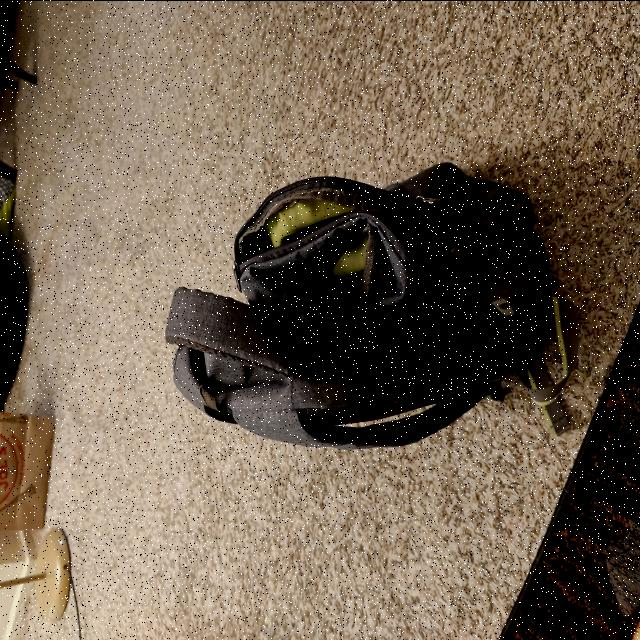bag: (178, 167, 540, 413)
